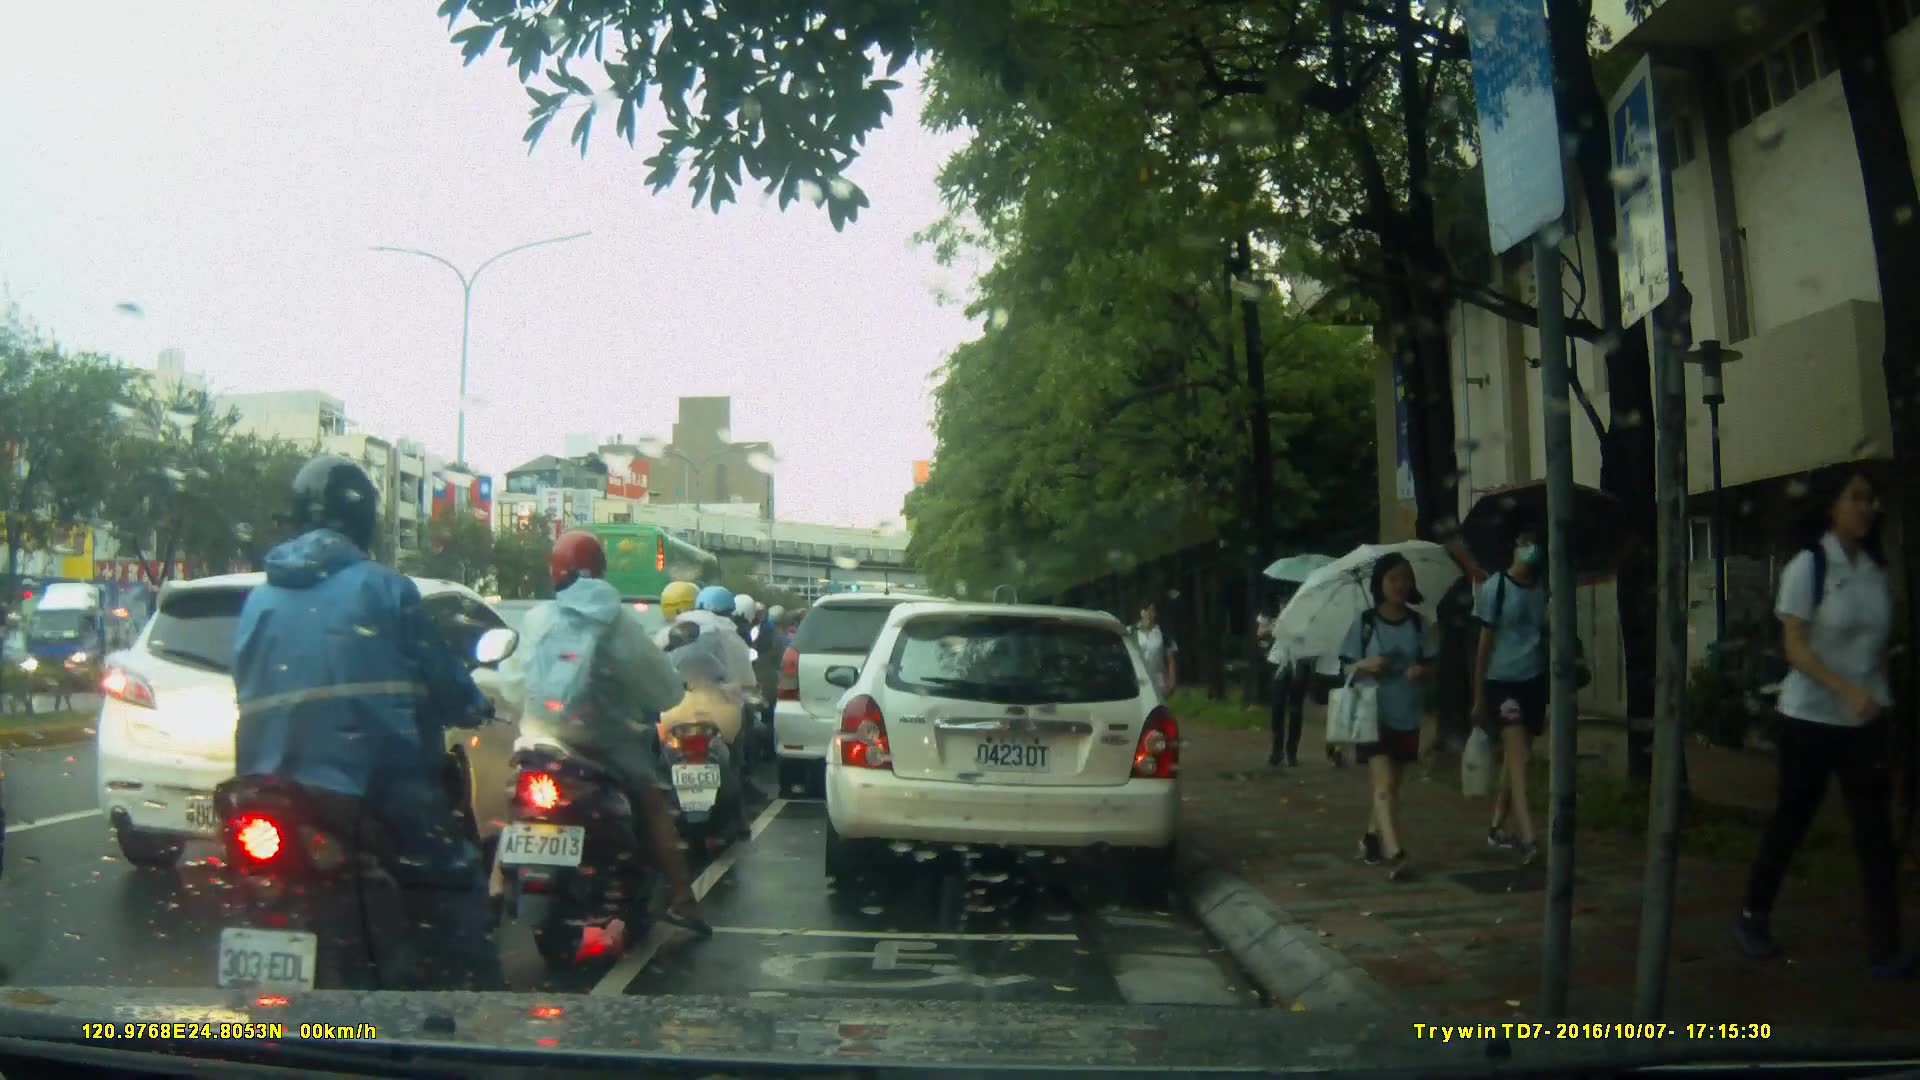pedestrian: (1744, 449, 1892, 962), (1462, 504, 1595, 867), (1322, 537, 1455, 893), (1260, 570, 1314, 772), (1124, 593, 1183, 765)
rider: (199, 454, 486, 1046), (489, 529, 729, 953), (629, 587, 771, 854), (670, 592, 763, 794)
vehicle: (94, 569, 612, 883), (822, 604, 1187, 883), (774, 595, 995, 802), (564, 523, 745, 661), (20, 576, 199, 697)
